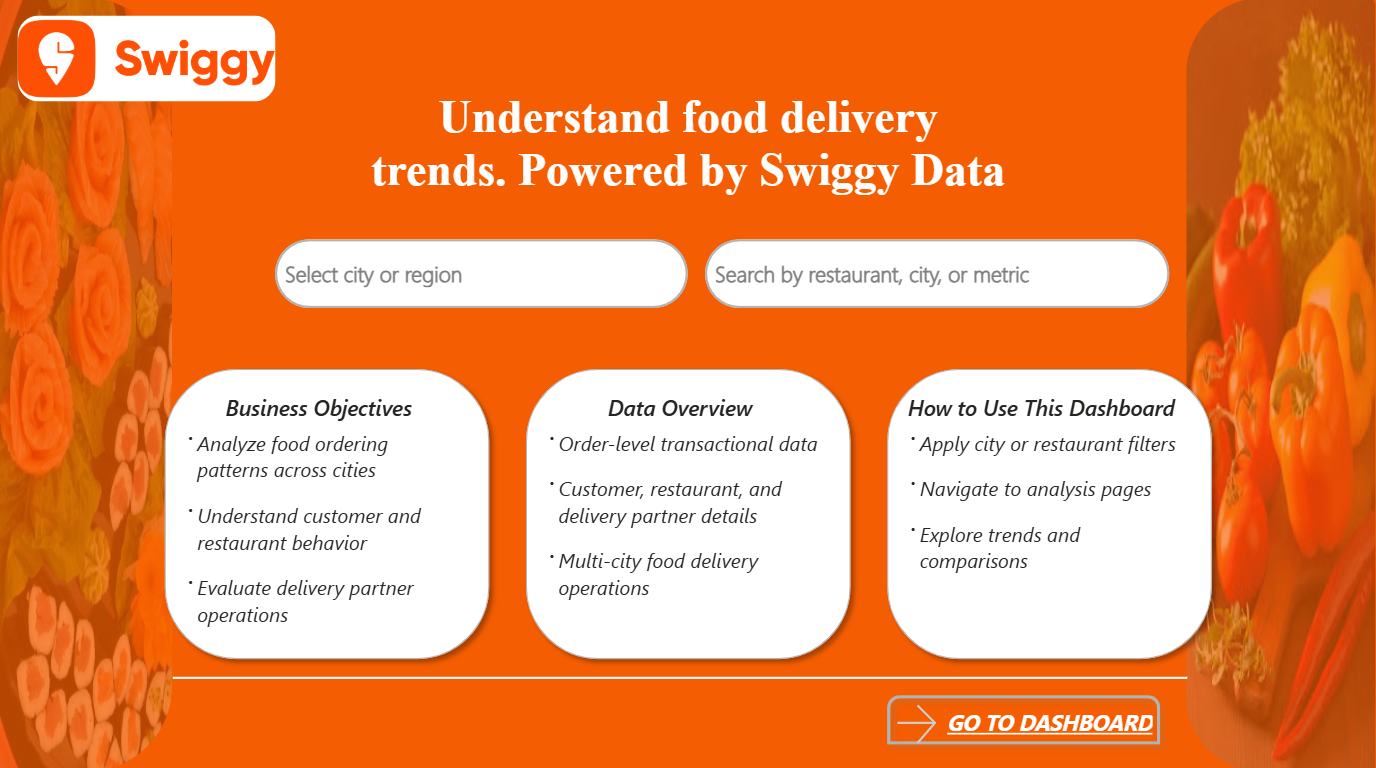

The page's visual inventory and layout, read from the dashboard file:
{"tool":"powerbi","page":{"name":"Page 2","canvas":[1280,720],"ordinal":0},"visuals":[{"type":"textbox","box":[336,80,608,128],"z":0},{"type":"shape","box":[256,224,384,64],"z":1000},{"type":"shape","box":[656,224,432,64],"z":2000},{"type":"image","box":[1104,0,176,720],"z":3000},{"type":"shape","box":[480,336,320,288],"z":4000},{"type":"image","box":[0,0,160,720],"z":5000},{"type":"shape","box":[144,336,320,288],"z":6000},{"type":"shape","box":[816,336,320,288],"z":7000},{"type":"image","box":[16,16,240,80],"z":8000},{"type":"textbox","title":"Business Objectives","box":[160,368,272,224],"z":9000},{"type":"textbox","title":"Data Overview","box":[496,368,272,208],"z":10000},{"type":"textbox","title":"How to Use This Dashboard","box":[832,368,272,208],"z":11000},{"type":"shape","box":[160,624,944,16],"z":12000},{"type":"actionButton","box":[816,640,272,64],"z":13000}]}

Visuals, with their boxes in screenshot pixels (x1, y1, x2, y2), scaled from the page's 1280x720 canvas onto the 1376x768 screenshot:
textbox: left=361, top=85, right=1015, bottom=222
shape: left=275, top=239, right=688, bottom=307
shape: left=705, top=239, right=1170, bottom=307
image: left=1187, top=0, right=1375, bottom=767
shape: left=516, top=358, right=860, bottom=666
image: left=0, top=0, right=172, bottom=767
shape: left=155, top=358, right=499, bottom=666
shape: left=877, top=358, right=1221, bottom=666
image: left=17, top=17, right=275, bottom=102
"Business Objectives" textbox: left=172, top=393, right=464, bottom=631
"Data Overview" textbox: left=533, top=393, right=826, bottom=614
"How to Use This Dashboard" textbox: left=894, top=393, right=1187, bottom=614
shape: left=172, top=666, right=1187, bottom=683
actionButton: left=877, top=683, right=1170, bottom=751
